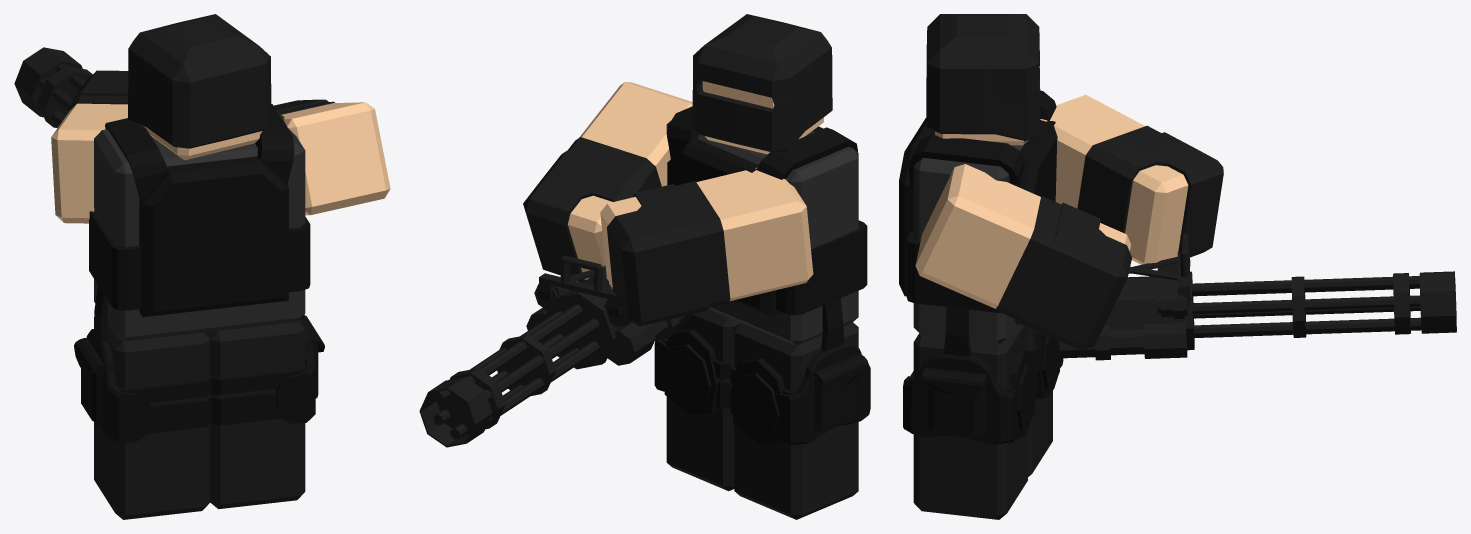
The picture shows the model from 3 angles, left to right: view 1: azimuth 30°, elevation 25°; view 2: azimuth 150°, elevation 25°; view 3: azimuth 270°, elevation 25°; orthographic projection. The views are drawn at different scales.
Parts seen in each view (by area): view 1: SWAT.Torso, SWAT.Legs, SWAT.Arm_R, SWAT.Arm_L; view 2: SWAT.Torso, SWAT.Legs, SWAT.Arm_R, SWAT.Arm_L; view 3: SWAT.Arm_R, SWAT.Torso, SWAT.Legs, SWAT.Arm_L.
Part boxes in pixels (x1,y1,x2,y2): SWAT.Torso: (89, 14, 310, 341); SWAT.Legs: (74, 285, 324, 519); SWAT.Arm_R: (14, 47, 390, 215); SWAT.Arm_L: (51, 70, 128, 223); SWAT.Torso: (666, 14, 867, 345); SWAT.Legs: (654, 298, 870, 519); SWAT.Arm_R: (419, 82, 692, 447); SWAT.Arm_L: (600, 167, 813, 326); SWAT.Arm_R: (915, 164, 1456, 360); SWAT.Torso: (899, 14, 1057, 344); SWAT.Legs: (903, 307, 1063, 519); SWAT.Arm_L: (1040, 95, 1223, 264).
Bounding box in the file's own units: 336 × 518 × 576.
